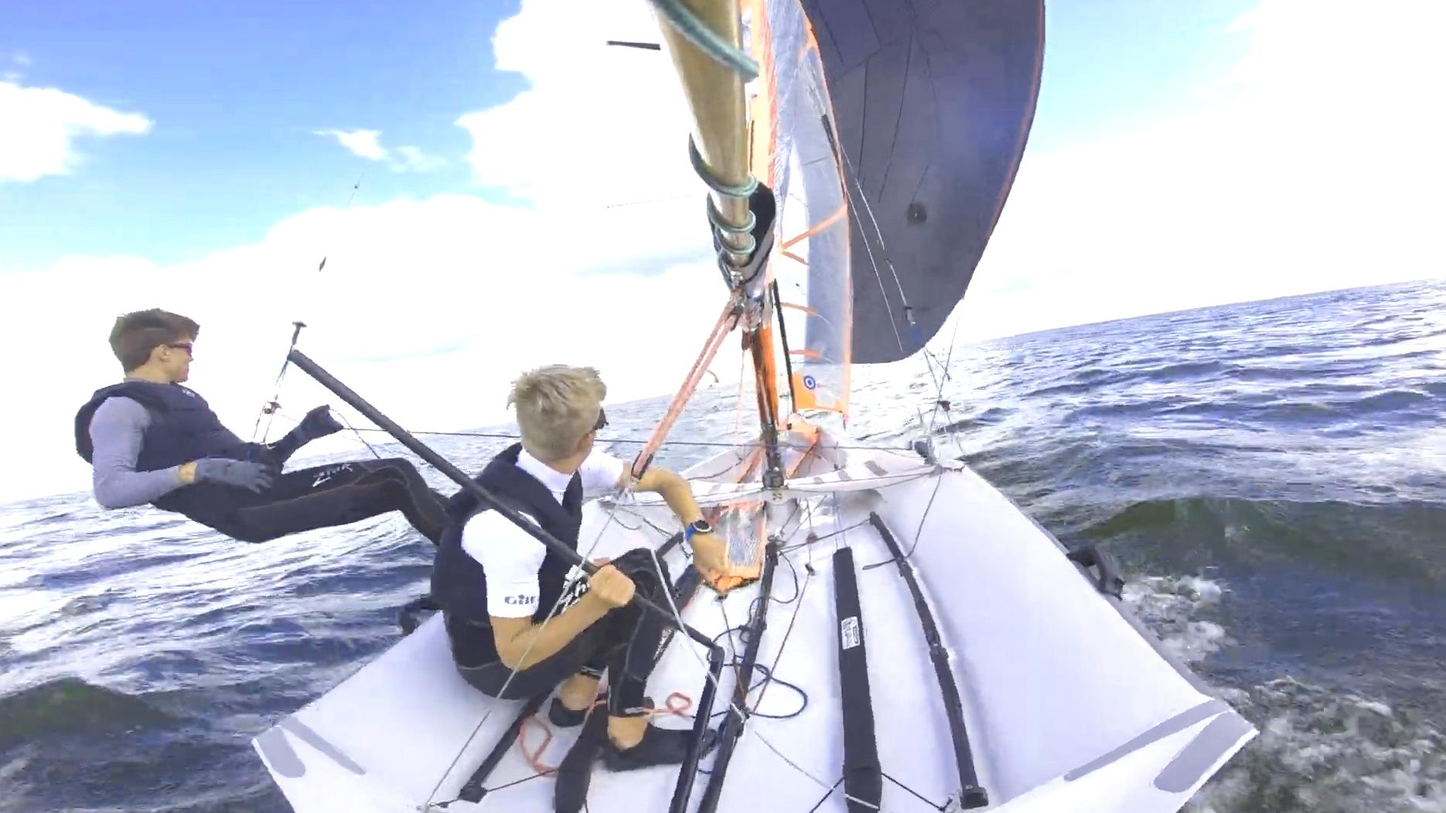boat: (254, 0, 1254, 813)
person: (433, 365, 720, 772), (76, 310, 448, 545)
sea: (850, 276, 1446, 813), (0, 493, 429, 813), (286, 423, 521, 501), (600, 377, 769, 473)
sky: (0, 0, 742, 503), (937, 0, 1446, 348)
